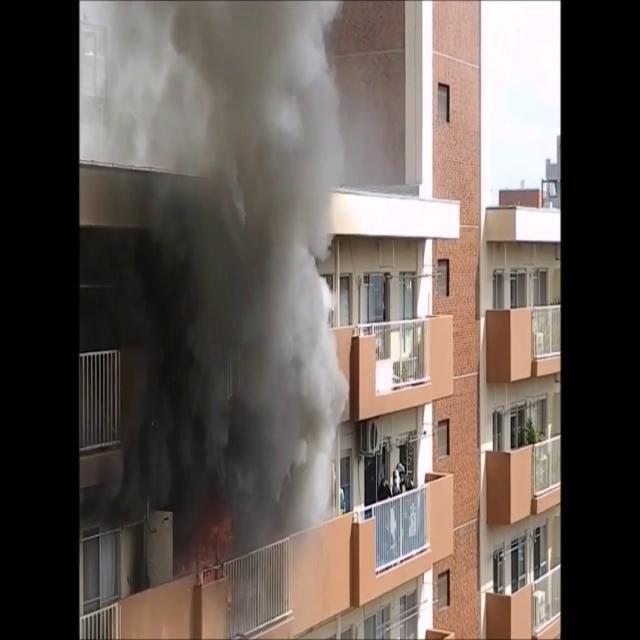Smoke: (80, 2, 352, 610)
